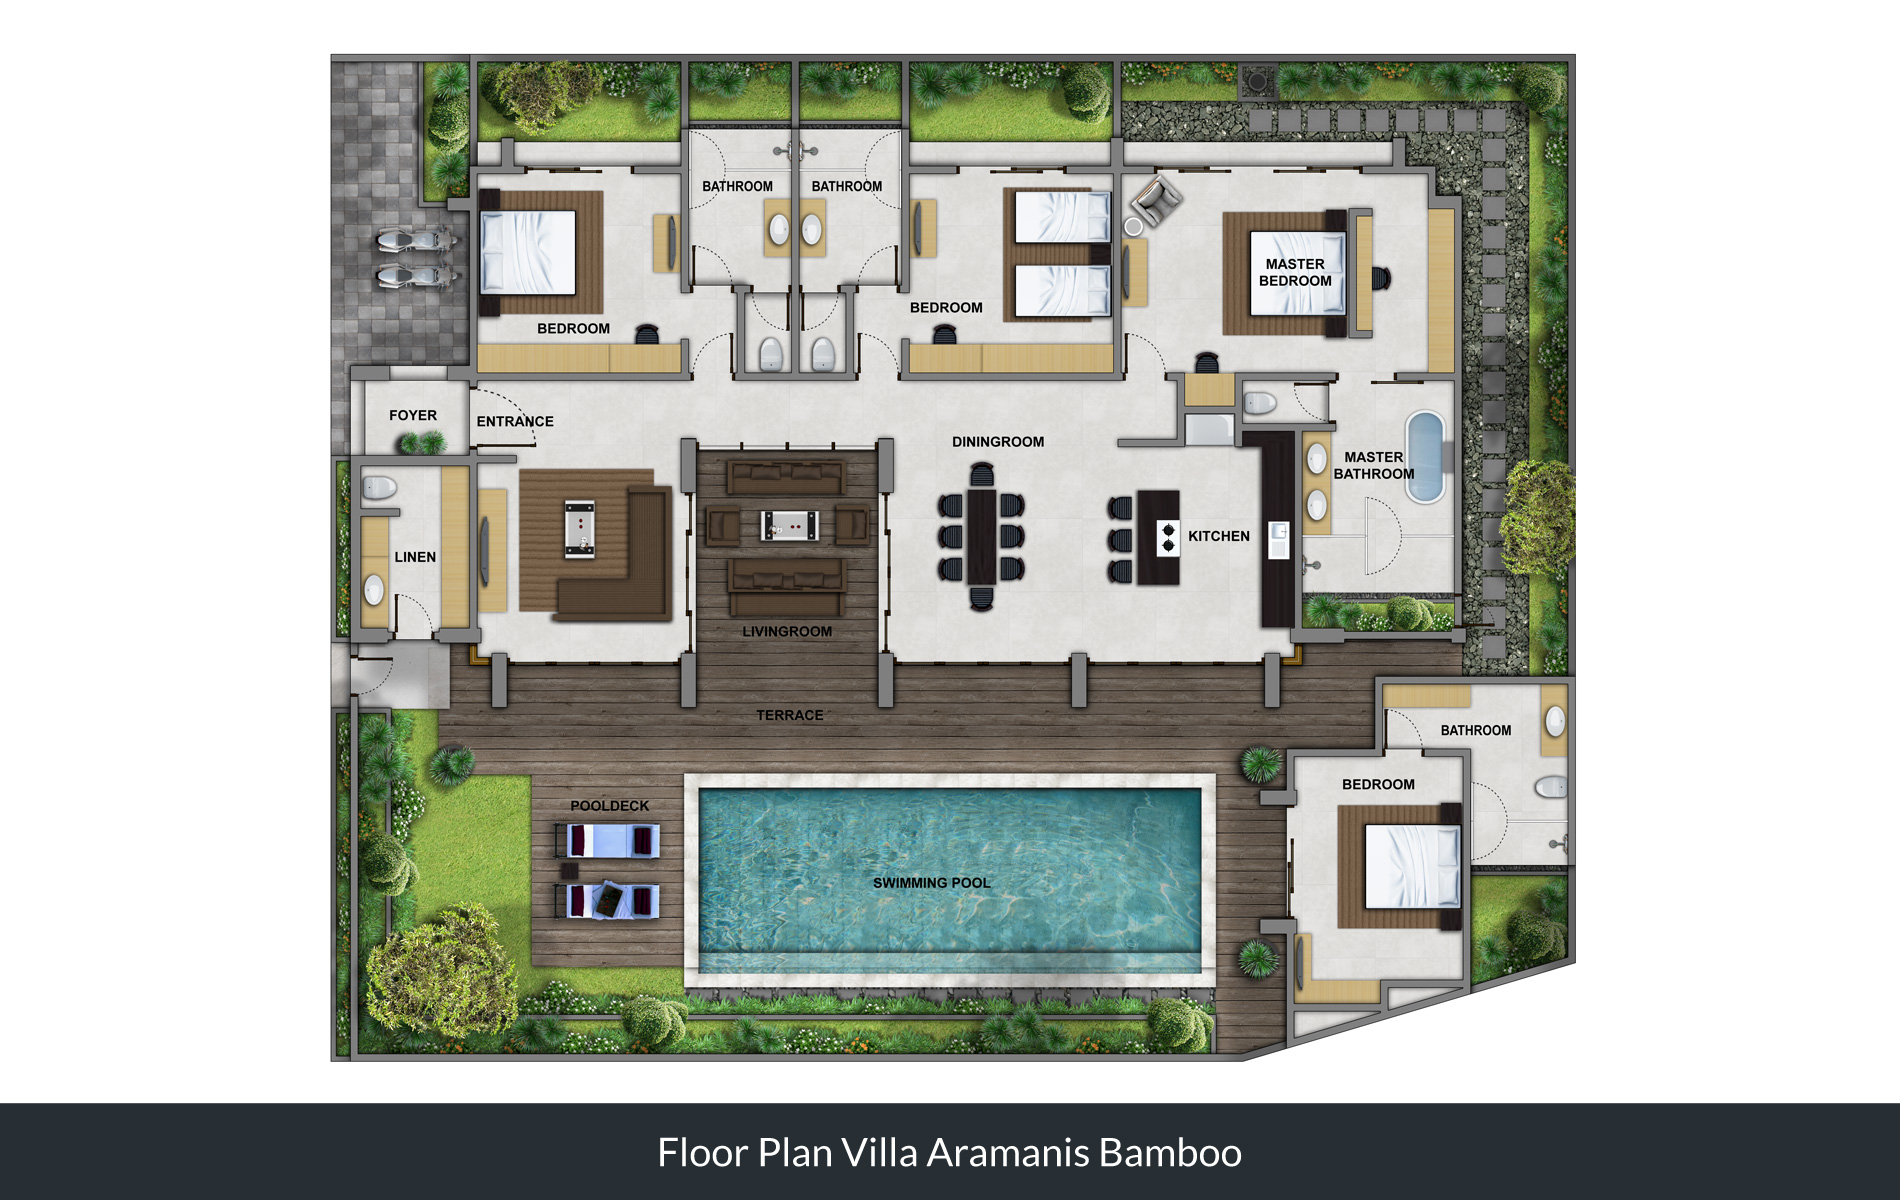door: (1123, 333, 1165, 375), (1289, 382, 1329, 423), (694, 330, 737, 368), (748, 292, 790, 329), (799, 296, 842, 333), (857, 243, 900, 281), (855, 333, 898, 371), (392, 593, 434, 630), (691, 246, 732, 283)
